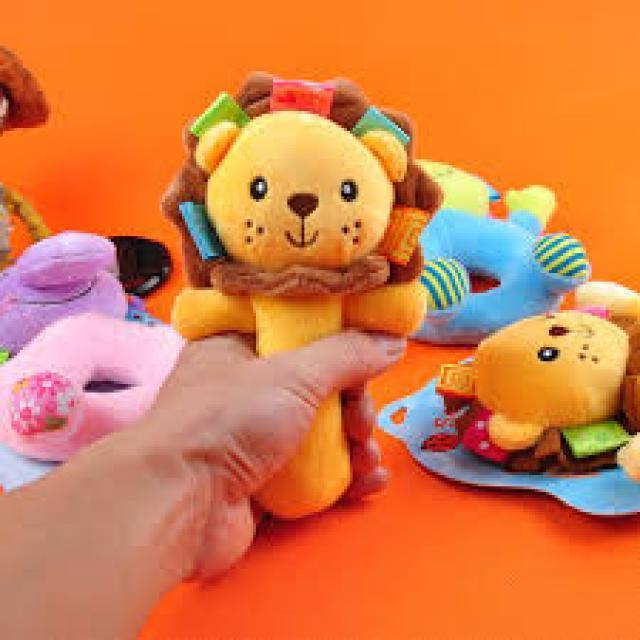soft-toy: (162, 74, 441, 357), (437, 284, 640, 475), (1, 315, 186, 462), (256, 382, 389, 519)
